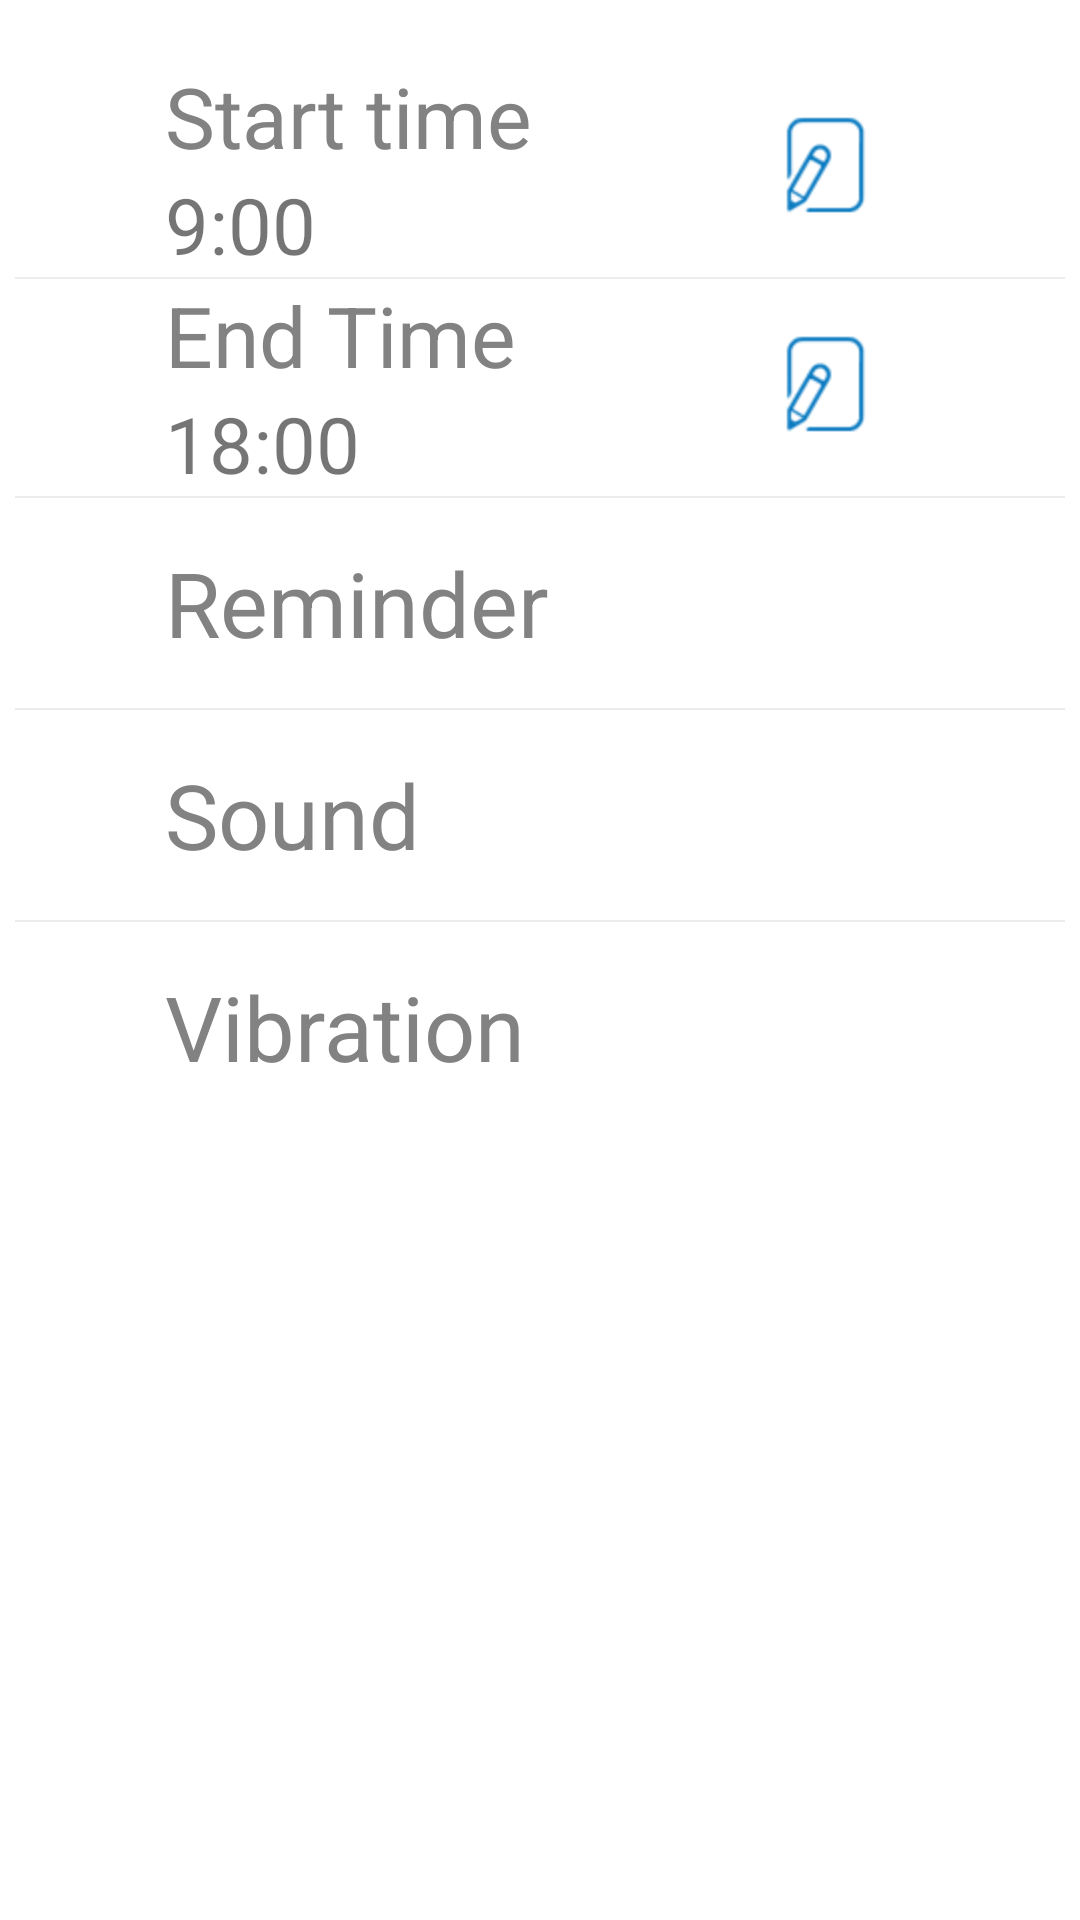

Icon click points for this 1080x1920 phone screenshot, format point (x, y):
edit: point (825, 165), point (825, 384)
